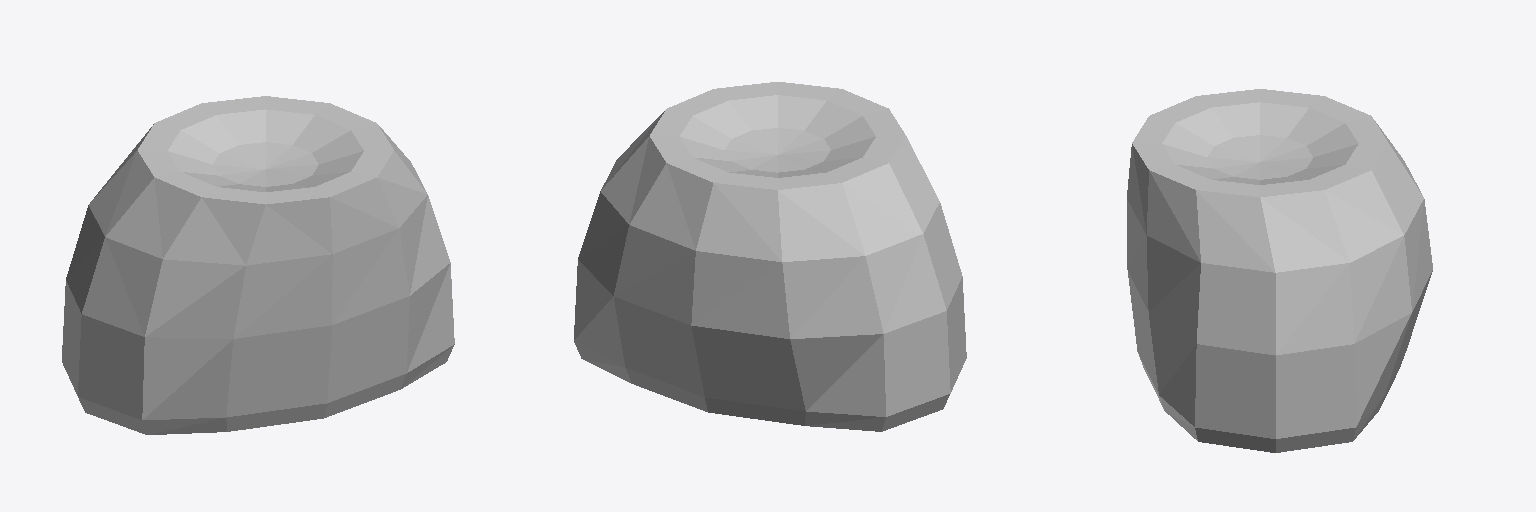
File: dummyhips.obj
3 renders of one model, left to right at view 1: azimuth 30°, elevation 25°; view 2: azimuth 150°, elevation 25°; view 3: azimuth 270°, elevation 25°, orthographic.
Parts seen in each view (by area): view 1: dummy_hips3.001; view 2: dummy_hips3.001; view 3: dummy_hips3.001.
Part boxes in pixels (bbox=[...]): dummy_hips3.001: bbox=[62, 96, 454, 434]; dummy_hips3.001: bbox=[574, 82, 966, 431]; dummy_hips3.001: bbox=[1127, 89, 1432, 452].
Size of the model in its own units: 28.92 by 17.3 by 21.28.